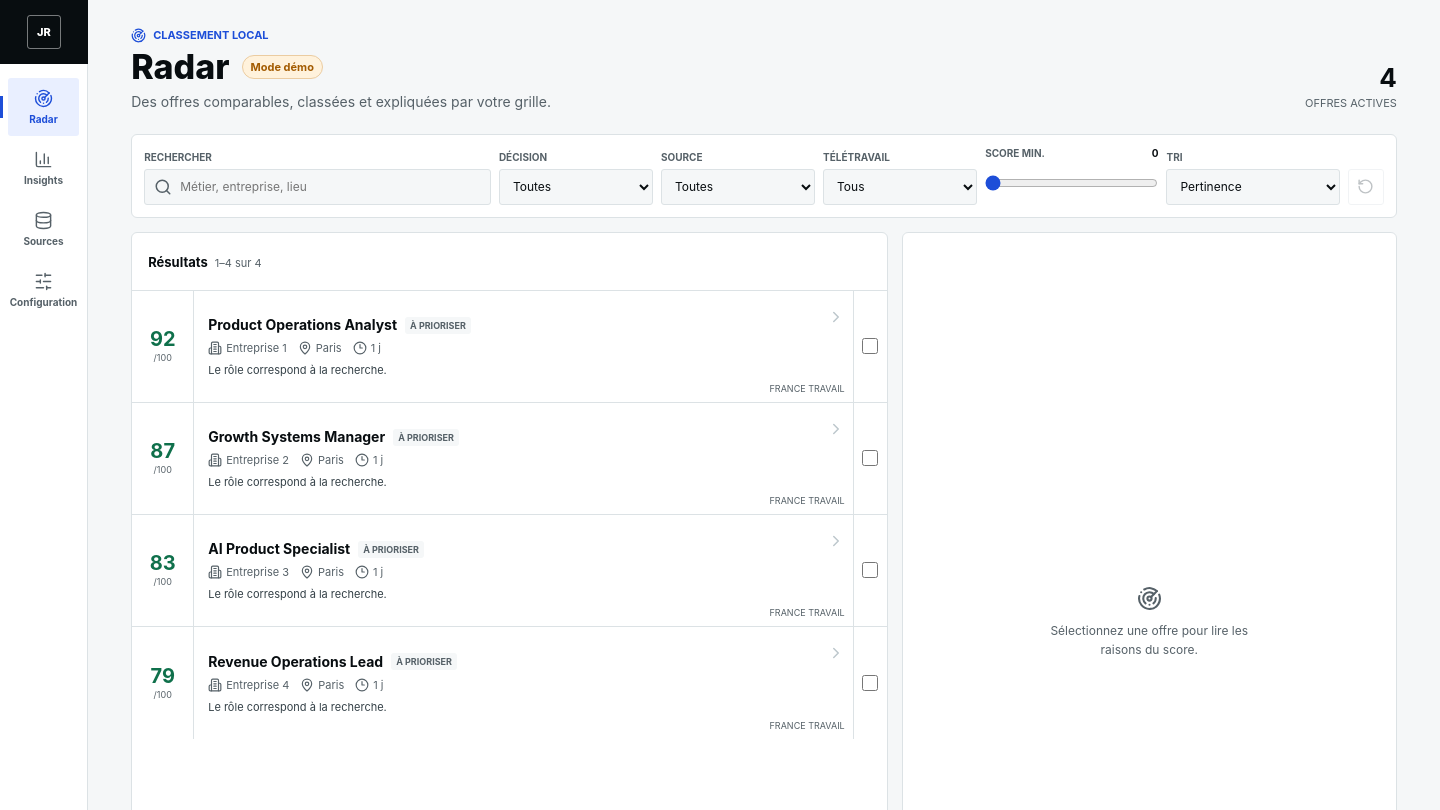
Test: Radar public › ouvre un détail explicable sans action de candidature
Click the button named "ouvrir product operations analyst" at (303,325), box [194, 291, 853, 402]
(page scrolled)
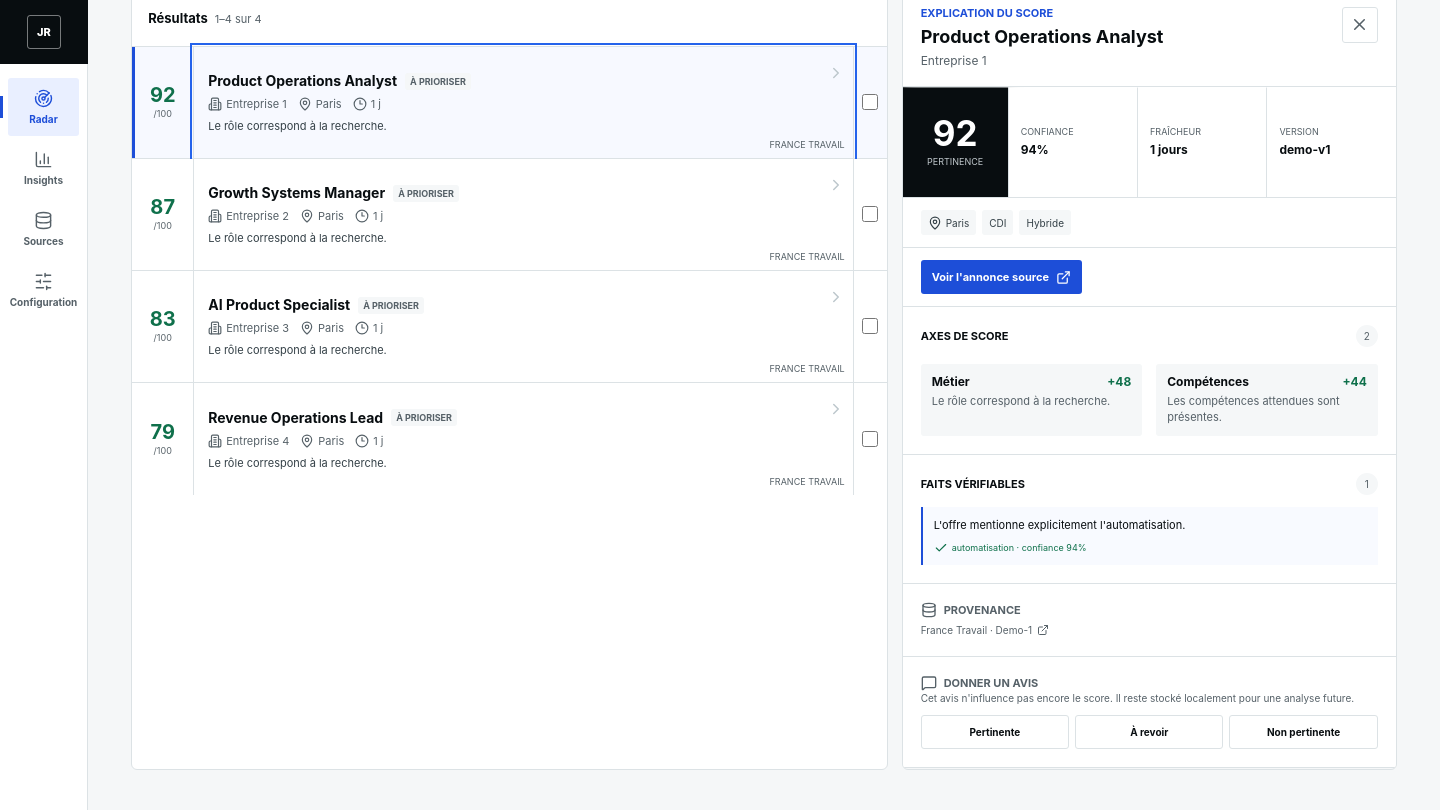
Result: the text "Le rôle correspond à la recherche." below "Métier" is shown at [932, 394, 1110, 408]
Result: the text "L'offre mentionne explicitement l'automatisation." is shown at [934, 518, 1185, 532]
